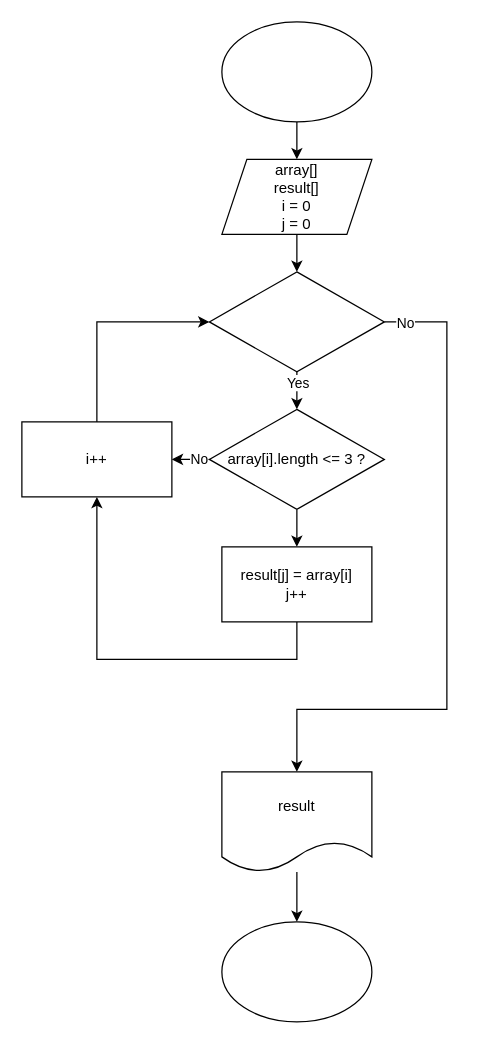
The diagram is 479 pixels wide and 1044 high, and some of its shapes have lost their labels. Each missing label, with the box of its shape:
End: (221, 921, 372, 1022)
i < array.length ?: (208, 271, 384, 372)
Start: (221, 21, 372, 122)
